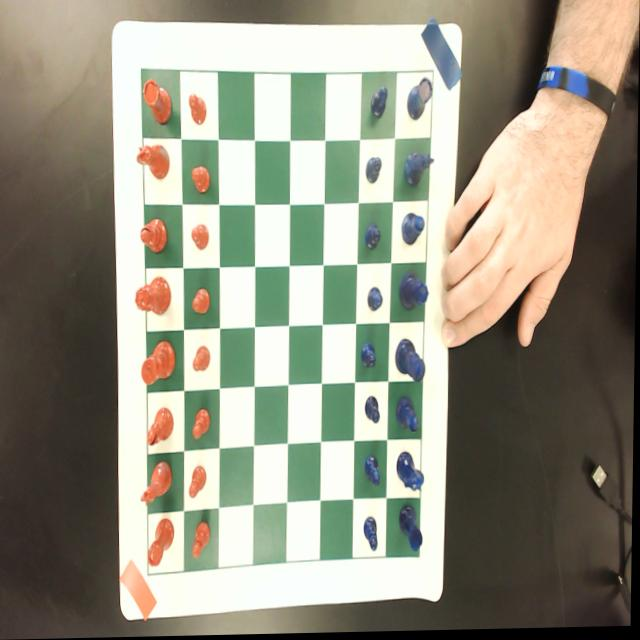B: (397, 398, 420, 434), (402, 215, 426, 249)
K: (396, 339, 426, 385)
N: (405, 151, 435, 191), (398, 452, 426, 494)
P: (365, 457, 384, 492), (364, 518, 381, 555), (371, 88, 389, 121), (365, 396, 383, 427), (366, 157, 383, 187), (365, 224, 382, 254), (368, 288, 385, 315), (362, 343, 378, 371)
Q: (400, 274, 430, 314)
R: (400, 506, 426, 555), (407, 80, 434, 124)
b: (147, 408, 175, 446), (141, 219, 168, 255)
k: (142, 341, 176, 386)
n: (142, 462, 174, 509), (138, 142, 170, 183)
p: (193, 521, 213, 562), (191, 165, 212, 196), (190, 467, 209, 501), (189, 92, 207, 127), (193, 409, 212, 441), (193, 288, 211, 316), (193, 347, 211, 373), (192, 226, 210, 252)
q: (136, 277, 172, 318)
r: (141, 77, 174, 127), (148, 519, 177, 568)
